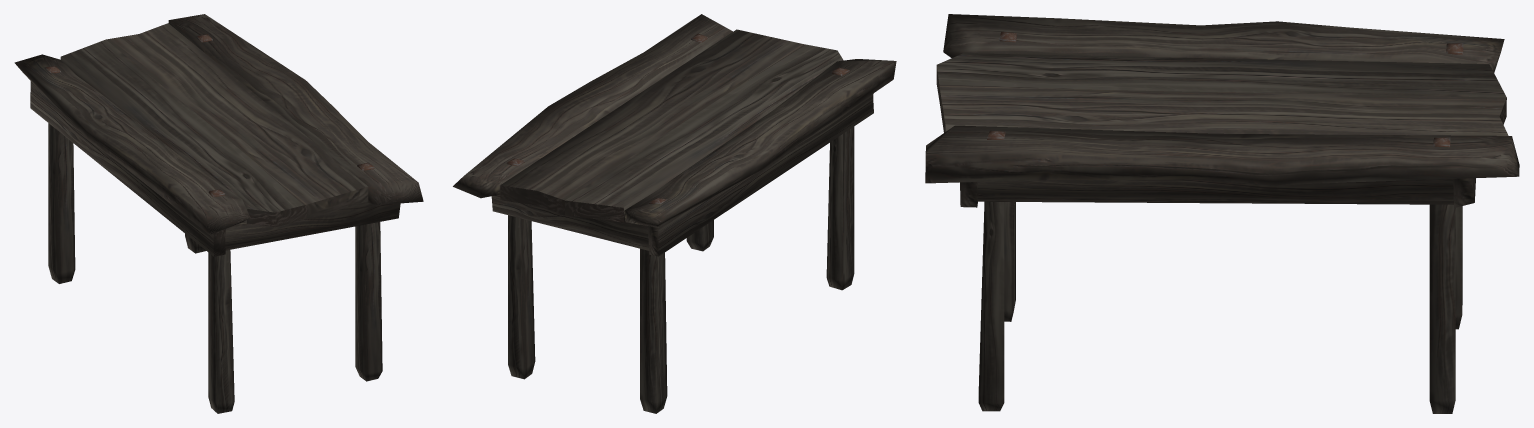
Rendered from Table.fbx.
3 views of the same model, side by side, from view 1: azimuth 30°, elevation 25°; view 2: azimuth 150°, elevation 25°; view 3: azimuth 270°, elevation 25° (orthographic). The views are drawn at different scales.
Parts seen in each view (by area): view 1: Table; view 2: Table; view 3: Table.
Boxes of the visible parts, x1,y1,x2,y2 form: Table: (14,14,423,413); Table: (453,14,896,413); Table: (925,14,1519,413).
Bounding box in the file's own units: 2.22 × 2.08 × 3.97.
